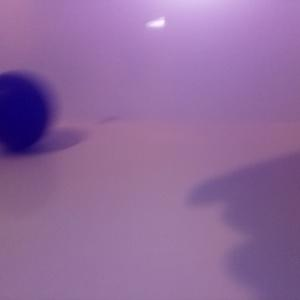dead_ball: (1, 73, 51, 150)
